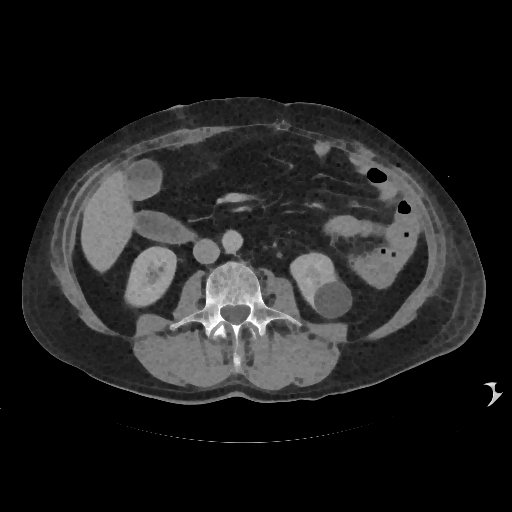Lesion: (307, 277, 356, 322)
